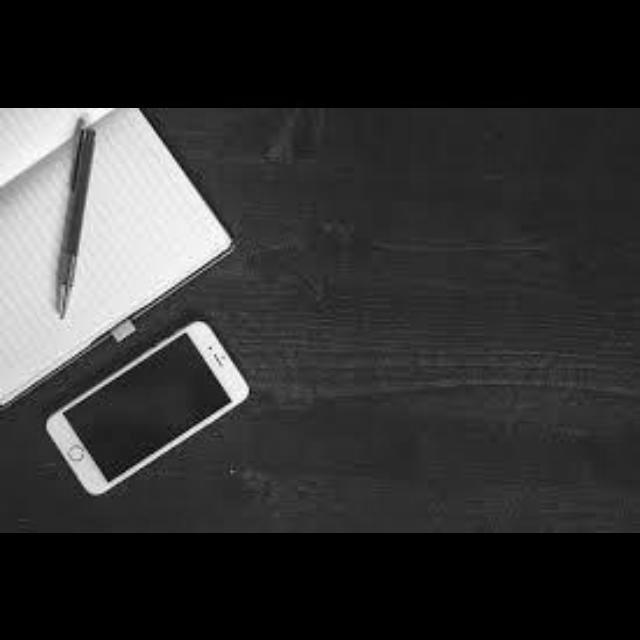fake: (0, 78, 640, 562), (48, 318, 248, 504)
